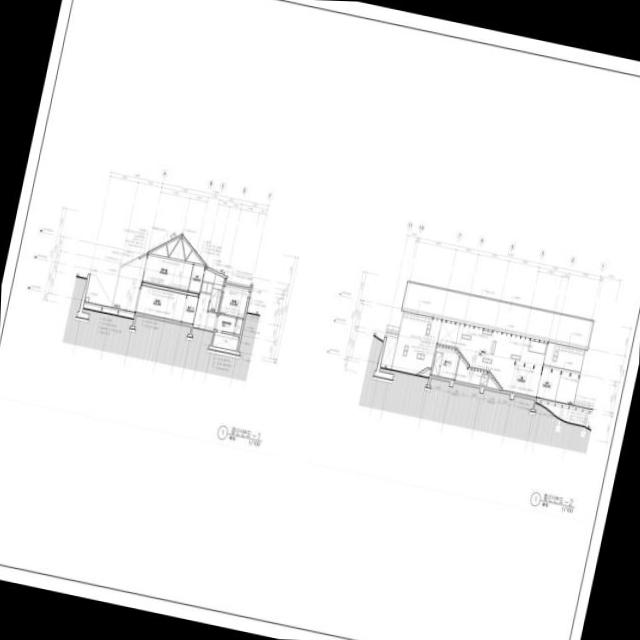background: (0, 0, 640, 640)
space_front: (536, 367, 560, 400)
space_other: (401, 281, 593, 349), (391, 311, 440, 376), (506, 335, 547, 396), (192, 268, 224, 331), (135, 285, 186, 322), (141, 254, 192, 290), (149, 236, 203, 264), (454, 356, 499, 389), (543, 341, 584, 371), (430, 346, 458, 378), (554, 370, 579, 404), (380, 336, 397, 368), (211, 331, 238, 350), (187, 264, 204, 293), (181, 294, 197, 324), (215, 313, 236, 332), (233, 317, 242, 334)
space_staircase: (437, 319, 518, 390)
space_toilet: (218, 284, 248, 317)
